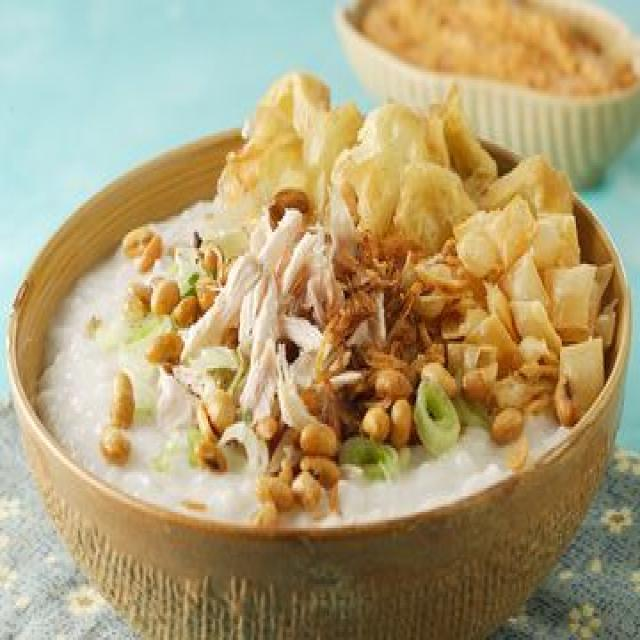bubur ayam: (42, 167, 613, 528)
mangkuk: (5, 86, 631, 630), (333, 0, 639, 189)
